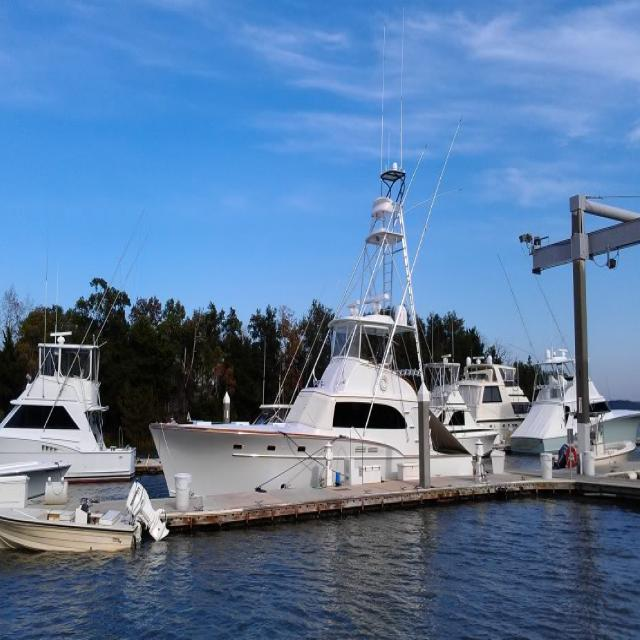houseboat: (167, 269, 441, 523), (0, 341, 145, 478), (516, 373, 601, 492)
